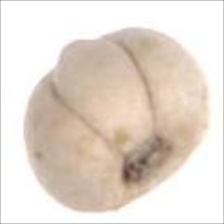L5: (47, 35, 156, 155), (118, 134, 175, 184)
L6: (22, 27, 210, 214)
